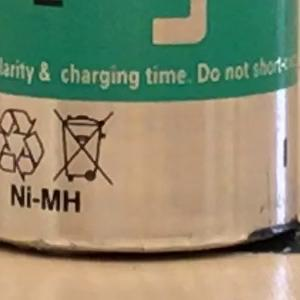keyword: (1, 179, 91, 217)
